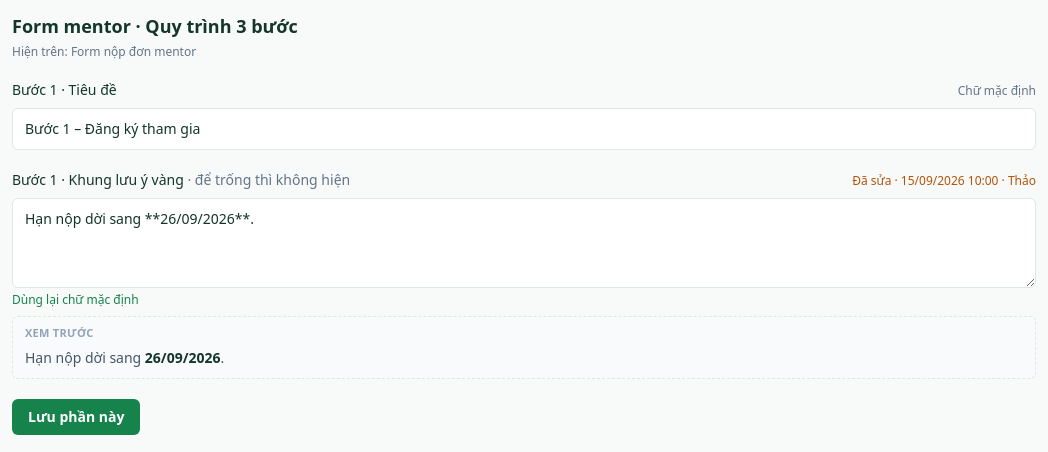
Test: 1. khung sửa một nhóm › Dùng lại chữ mặc định: đưa đúng chữ mặc định vào ô, và đó là thứ được gửi đi
Click the button "Dùng lại chữ mặc định". click: (75, 300)
box: [12,292,139,308]
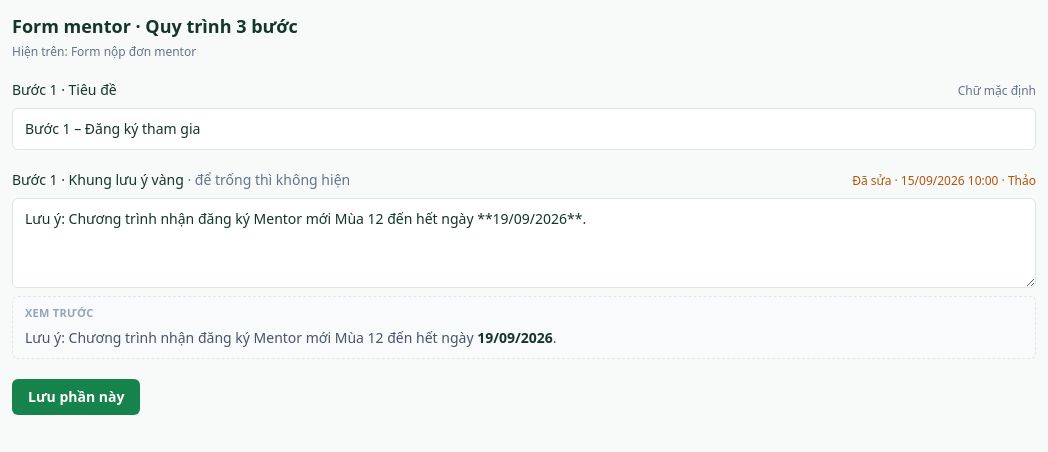
Now the button "Dùng lại chữ mặc định" is gone
